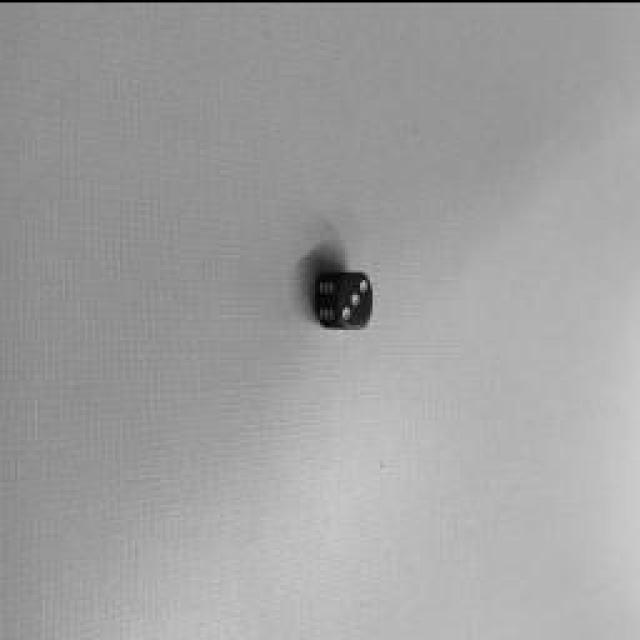dice_3: (338, 270, 372, 328)
